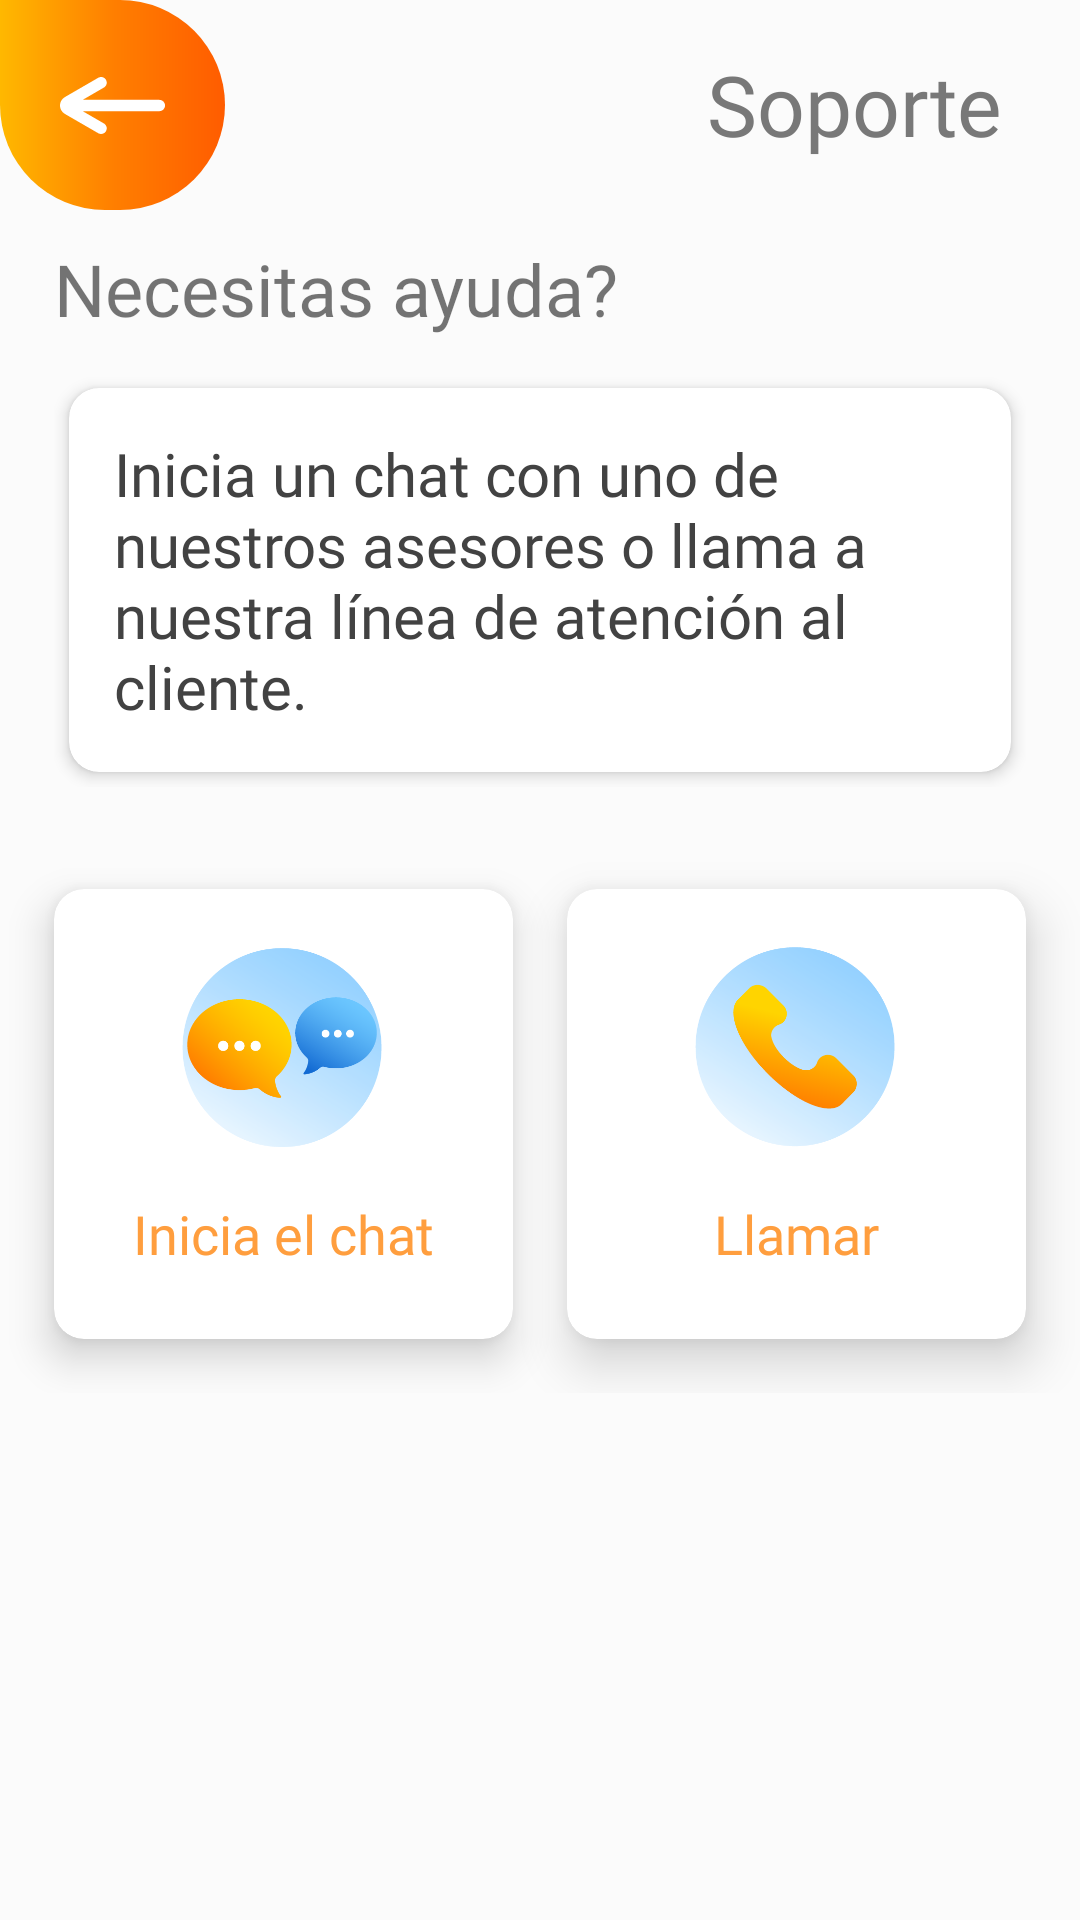

Icon bounding boxes for this 1080 × 1920 phone screenshot, format (x1, y1, x2, y2):
backarrow: (0, 0, 225, 210)
callicon: (696, 947, 895, 1146)
chaticon: (183, 948, 382, 1147)
